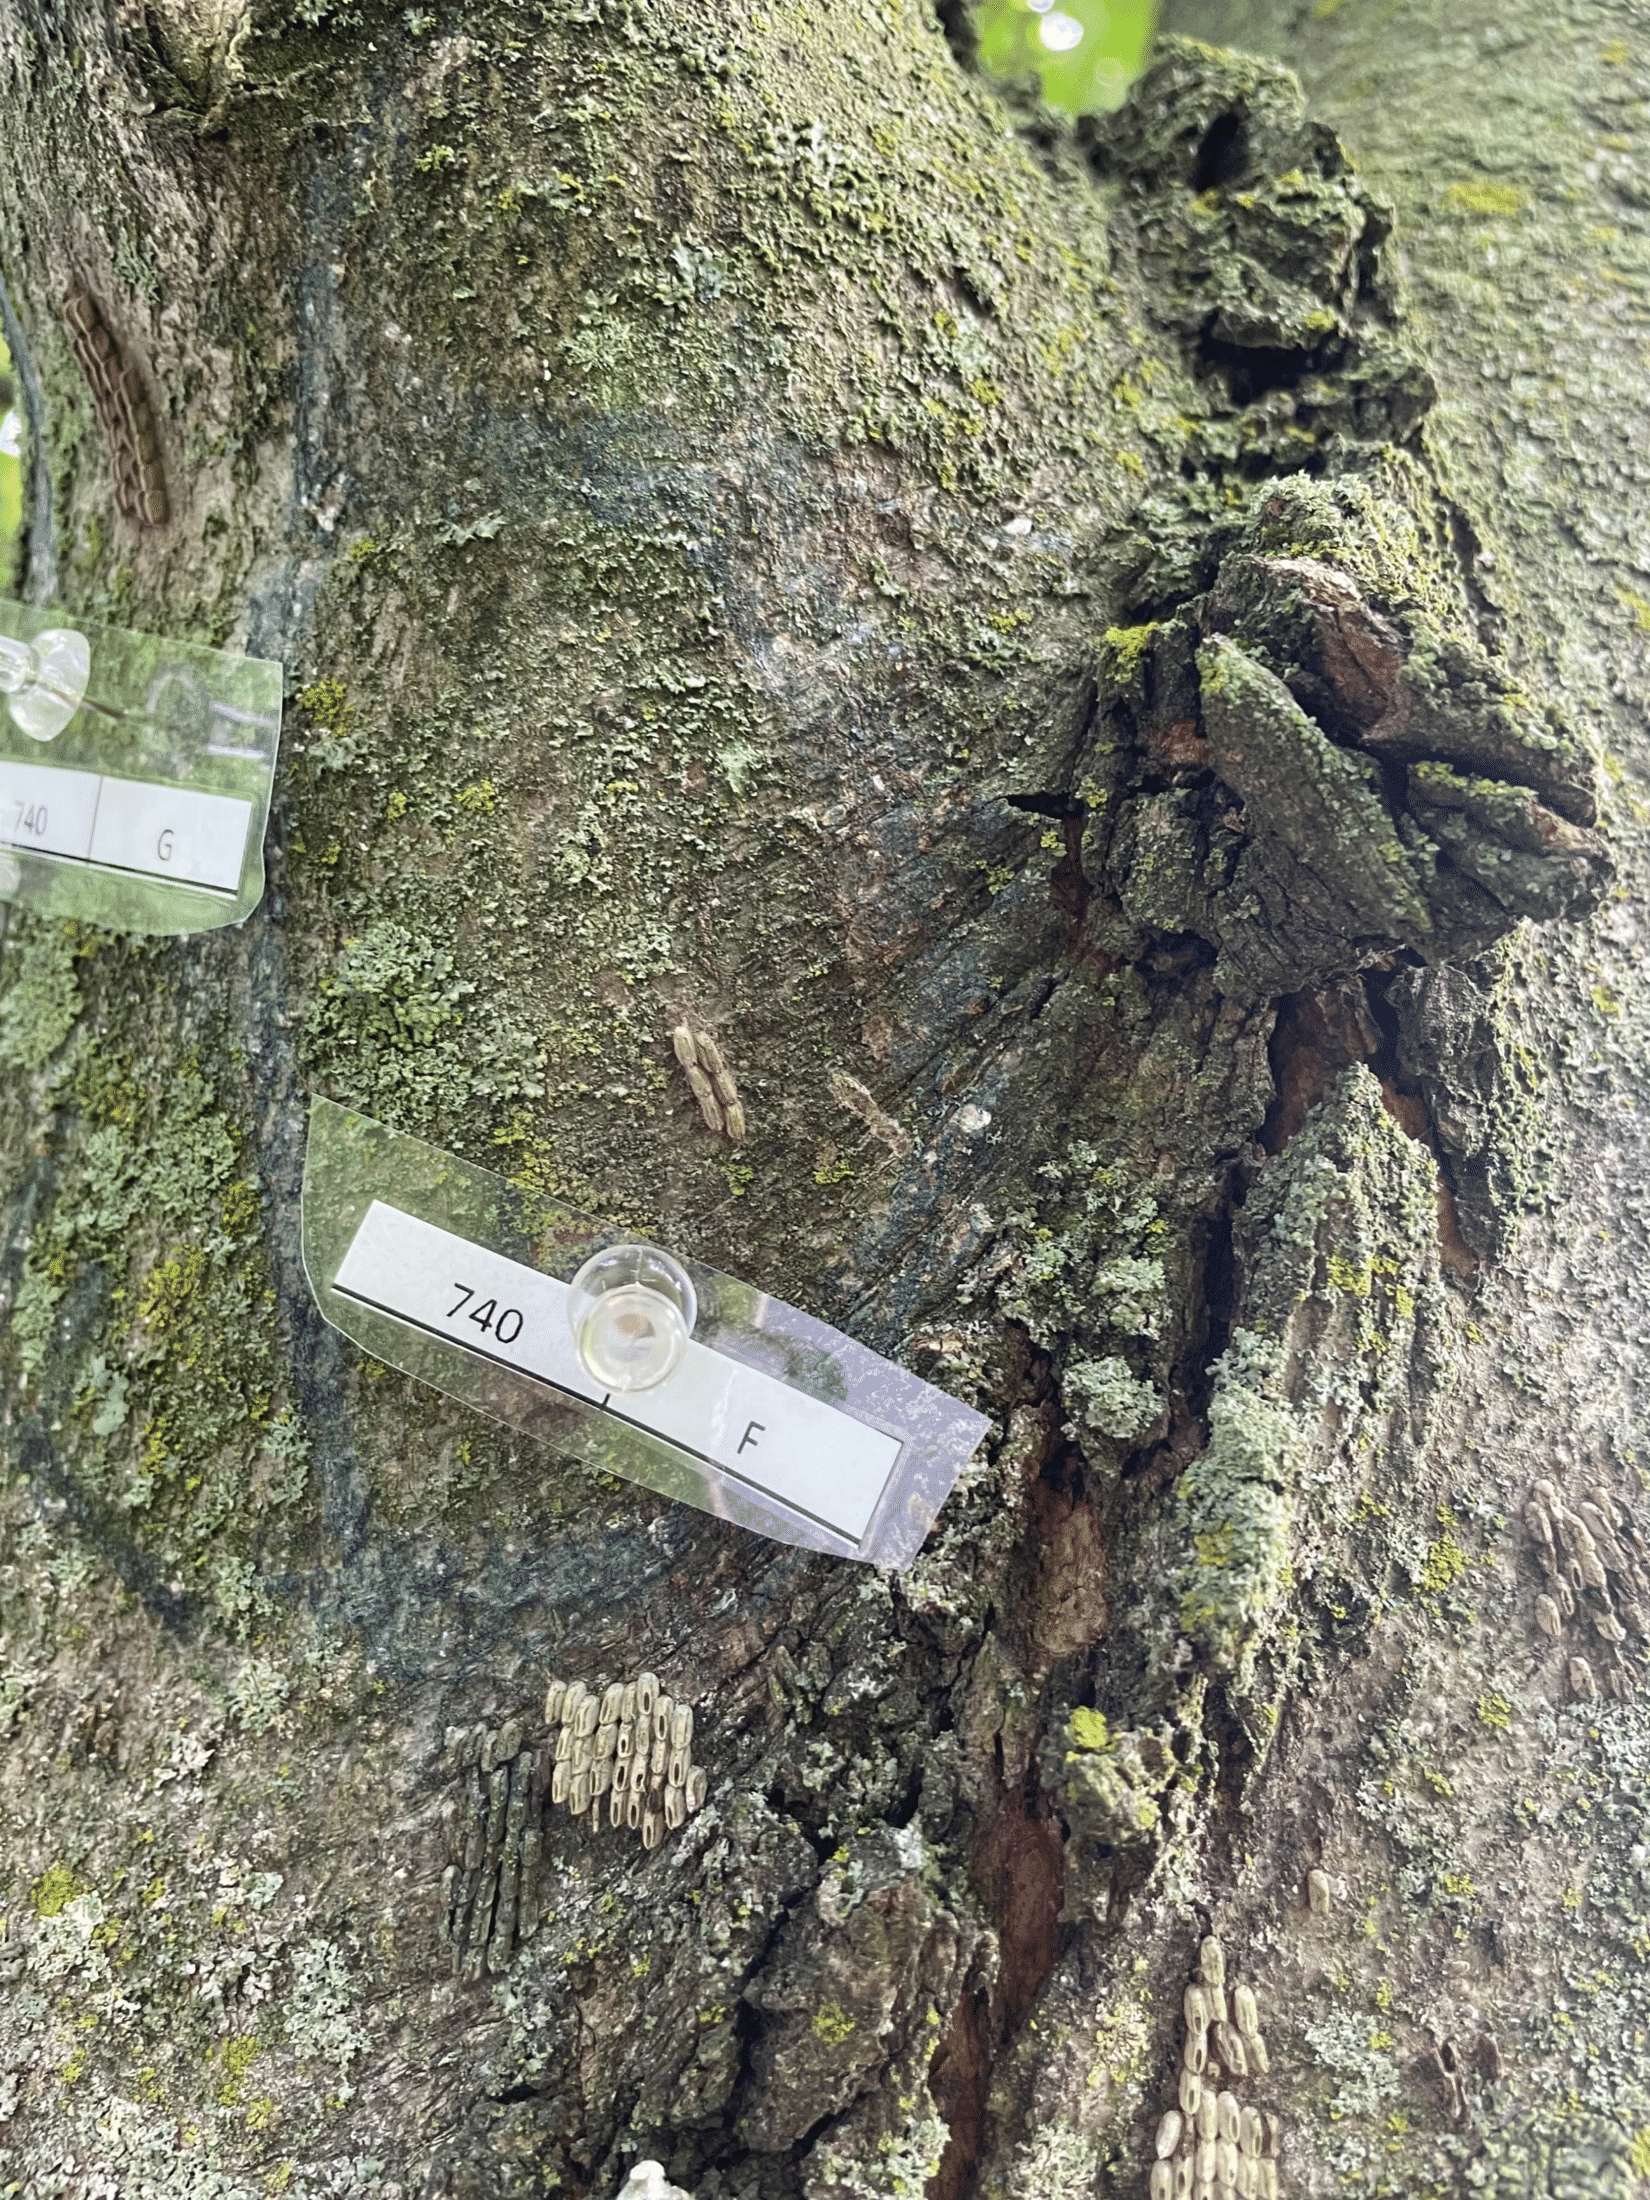egg masses: (1158, 1930, 1295, 2198), (548, 1679, 721, 1836), (432, 1715, 537, 1971), (648, 1013, 768, 1161)
